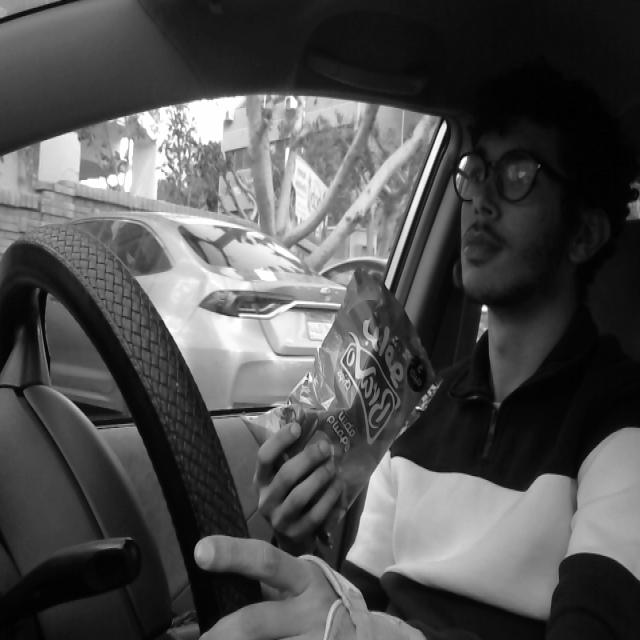eating: (242, 262, 439, 544)
